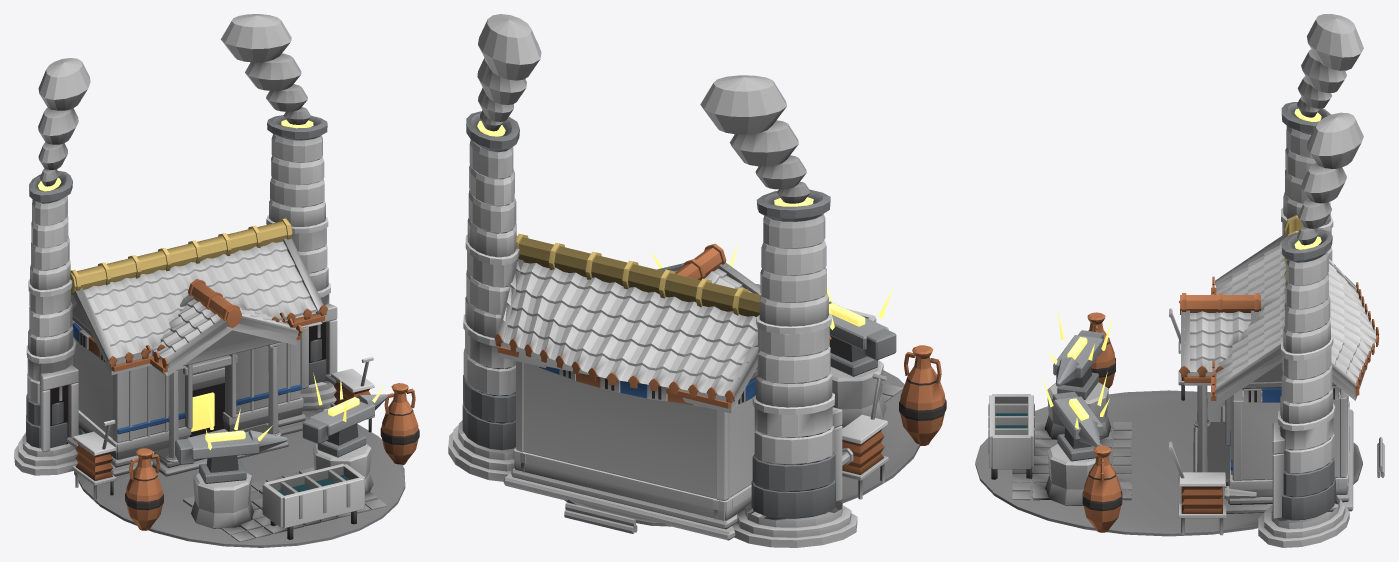
Rendered from hephaestus-forge-l3.glb.
The picture shows the model from 3 angles, left to right: view 1: azimuth 30°, elevation 25°; view 2: azimuth 150°, elevation 25°; view 3: azimuth 270°, elevation 25°; orthographic projection. The views are drawn at different scales.
Parts seen in each view (by area): view 1: hephaestus-forge-l3; view 2: hephaestus-forge-l3; view 3: hephaestus-forge-l3.
Boxes of the visible parts, x1=… form: hephaestus-forge-l3: x1=14, y1=14, x2=419, y2=547; hephaestus-forge-l3: x1=448, y1=14, x2=946, y2=547; hephaestus-forge-l3: x1=975, y1=14, x2=1384, y2=547.
Bounding box in the file's own units: 1.46 × 1.63 × 1.5.
